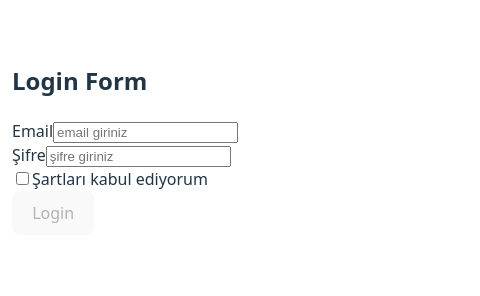
Test: Login Form › Email ve password yanlış
Type "yanlis" into the field with test id "email-input" at (146, 133), box left=53, top=122, right=238, bottom=143
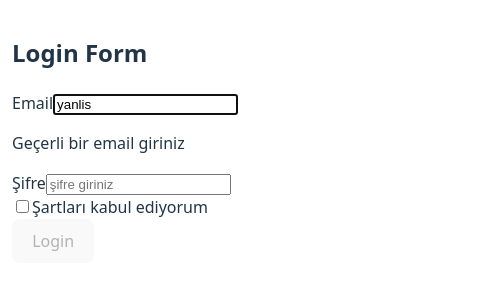
Type "123" into the password field with test id "password-input" at (139, 185), box left=46, top=174, right=231, bottom=195
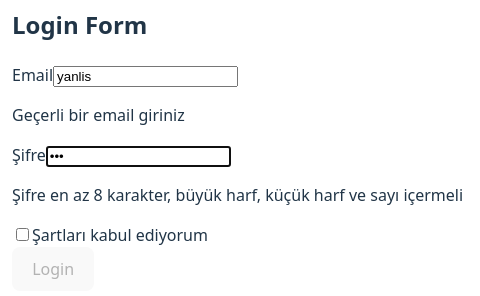
Result: the number of elements with class "error" is 2 at left=12, top=104, right=185, bottom=126; left=12, top=183, right=463, bottom=207
Result: the text "Şifre en az 8 karakter" is shown at left=12, top=184, right=463, bottom=206
